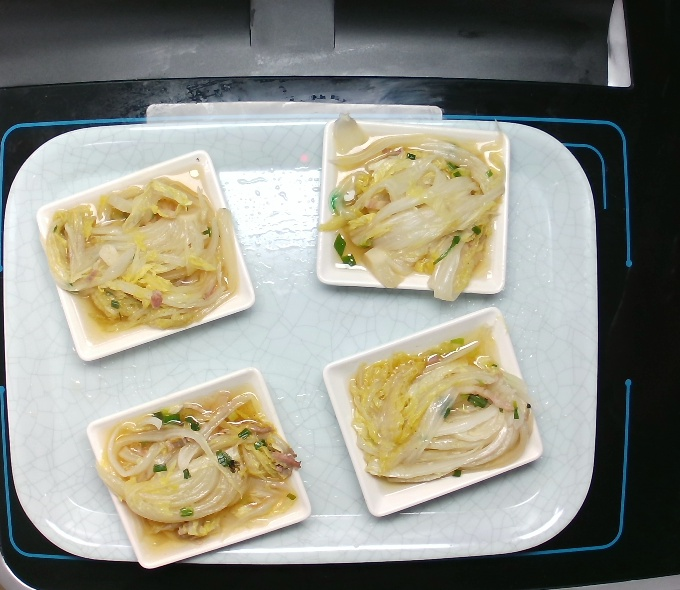wcq-DaBaiCaiRouMou: (311, 107, 511, 307), (88, 382, 305, 558), (38, 163, 245, 347), (339, 320, 540, 502)
